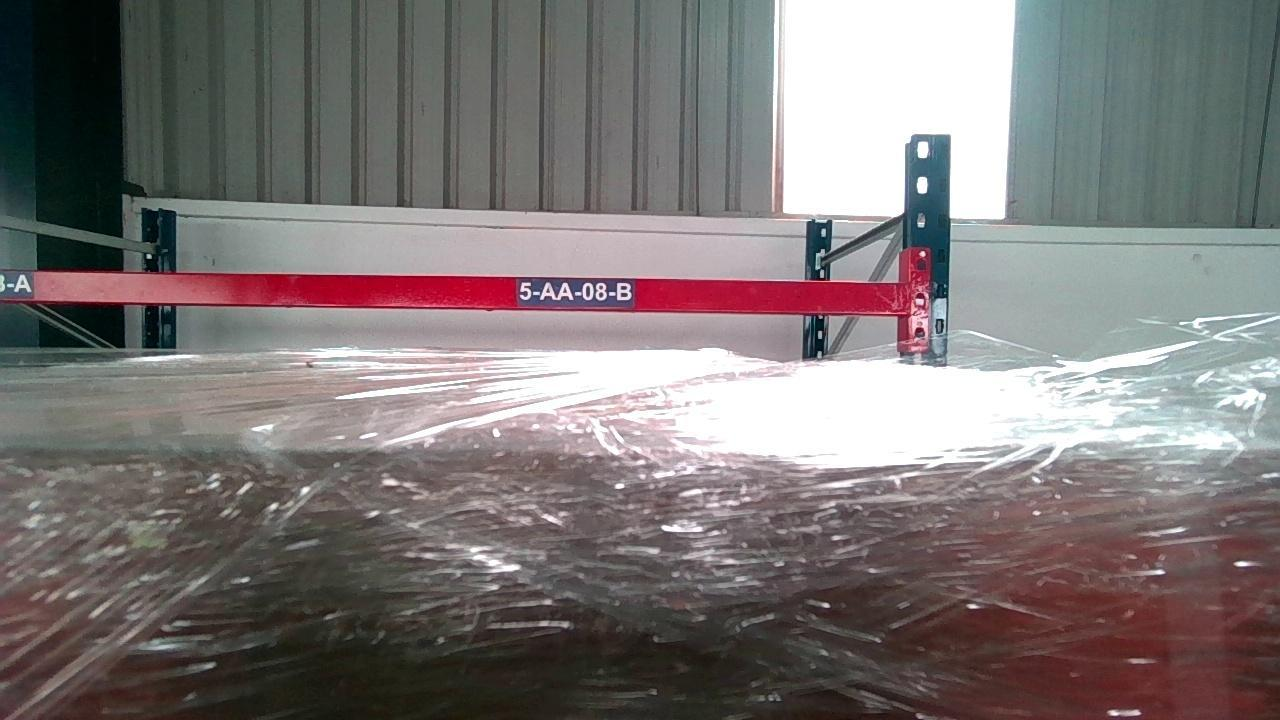h_rack: (0, 272, 907, 314)
